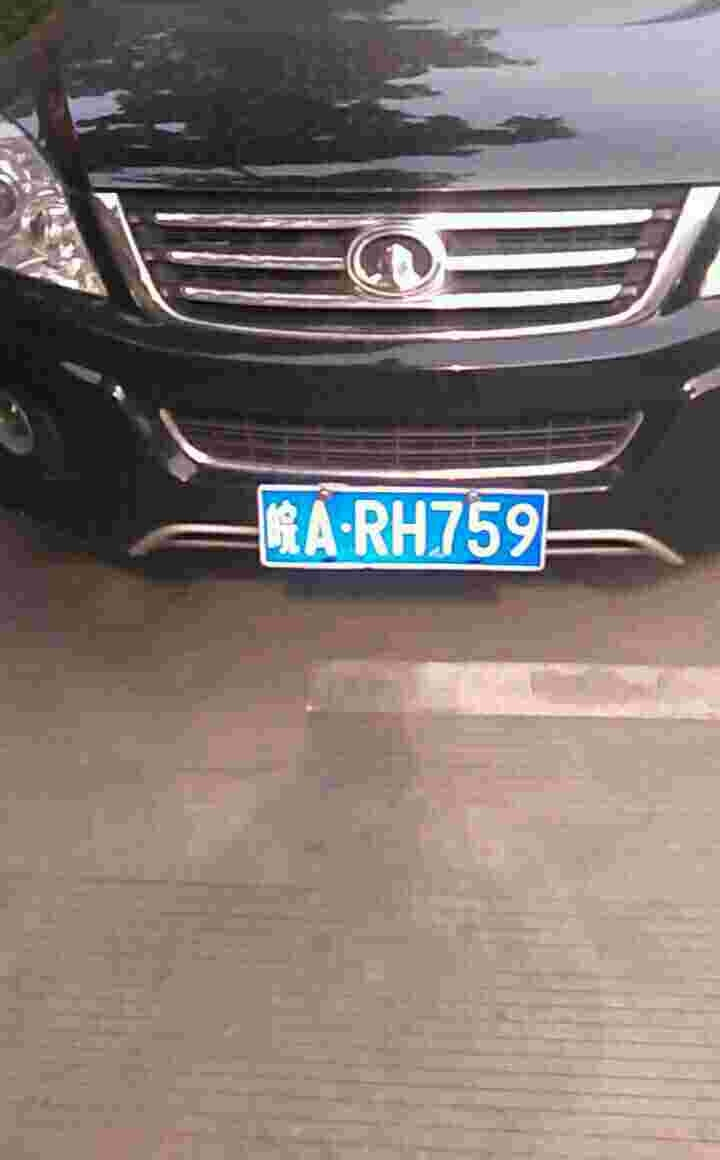license_plate: (259, 489, 553, 553)
